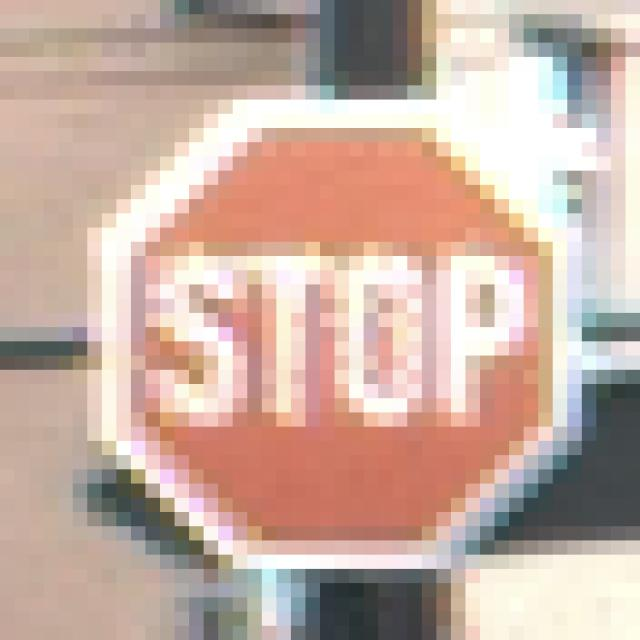STOP: (89, 86, 569, 570)
